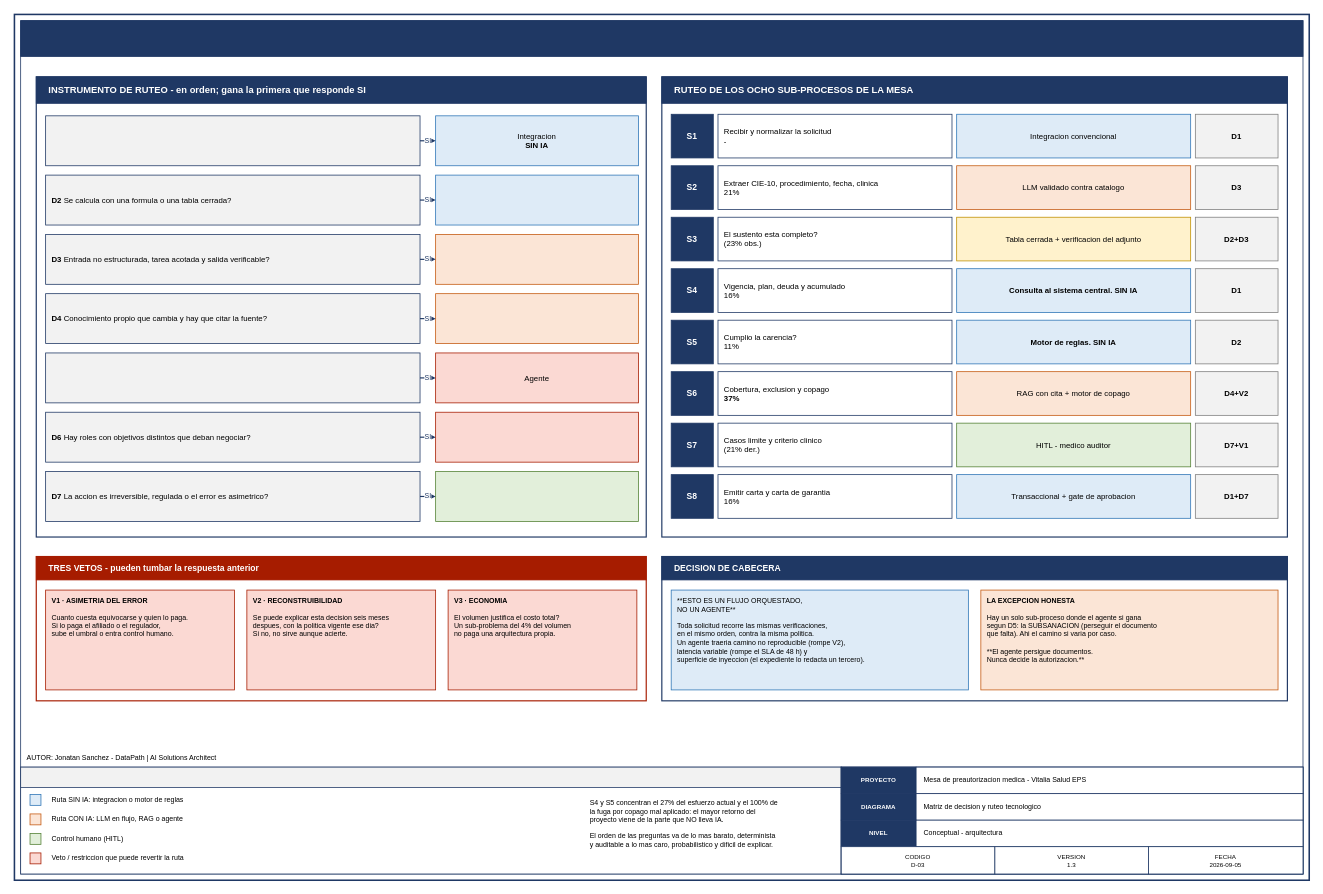
This 1323x894 diagram has some shape labels left out. The box of each missing label's shape, as (x1, y1, x2, y2) in pixels:
D1 La respuesta ya esta en un sistema, sin ambiguedad?: (45, 115, 420, 166)
D5 El camino de resolucion varia por caso, en runtime?: (45, 352, 420, 403)
HITL / gate (se suma): (435, 471, 638, 521)
LEYENDA / NOTAS: (20, 766, 841, 787)
LLM dentro de un flujo: (435, 234, 638, 284)
MATRIZ DE DECISION - QUE LLEVA IA Y QUE NO: (20, 20, 1303, 57)
Motor de reglas SIN IA: (435, 174, 638, 225)
Multi-agente: (435, 411, 638, 462)
RAG con cita obligatoria: (435, 293, 638, 344)
